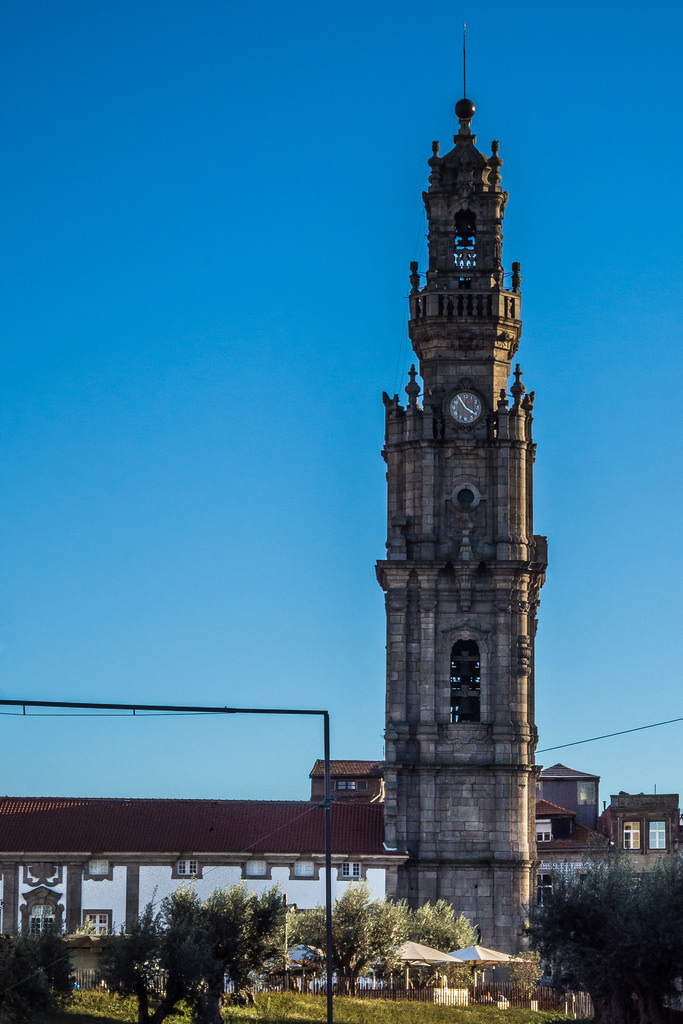clerigos: (373, 23, 549, 954)
